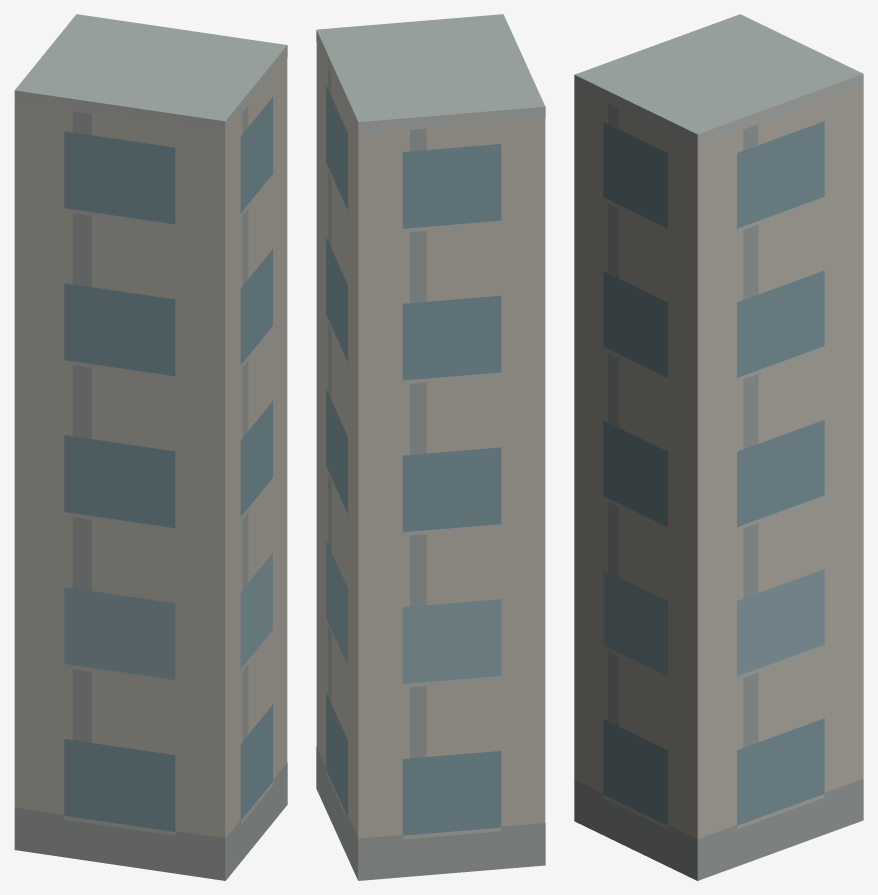
The model's file is survey-upis-32557517.glb.
3 views of the same model, side by side, from view 1: azimuth 30°, elevation 25°; view 2: azimuth 150°, elevation 25°; view 3: azimuth 270°, elevation 25° (orthographic).
Parts seen in each view (by area): view 1: survey-upis-32557517.tmp; view 2: survey-upis-32557517.tmp; view 3: survey-upis-32557517.tmp.
Boxes of the visible parts, bbox=[...] form: survey-upis-32557517.tmp: bbox=[14, 14, 287, 880]; survey-upis-32557517.tmp: bbox=[316, 14, 545, 880]; survey-upis-32557517.tmp: bbox=[574, 14, 863, 880].
Size of the model in its own units: 5.28 by 15.25 by 5.36.
